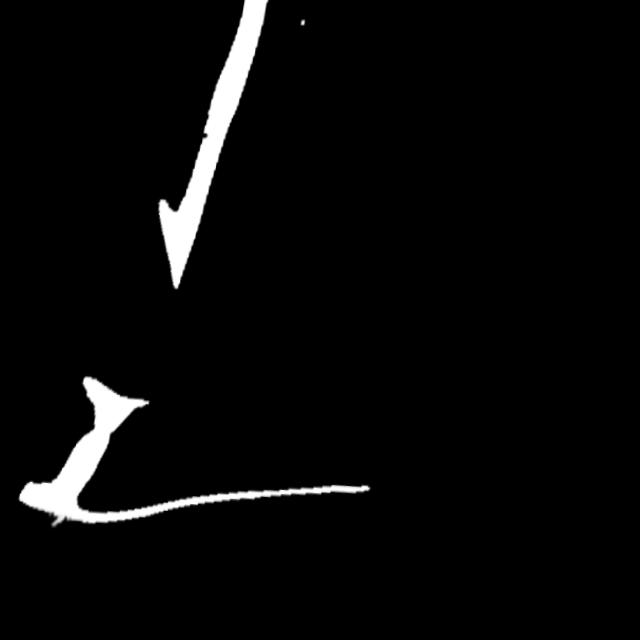sup_pli: (53, 508, 72, 530)
